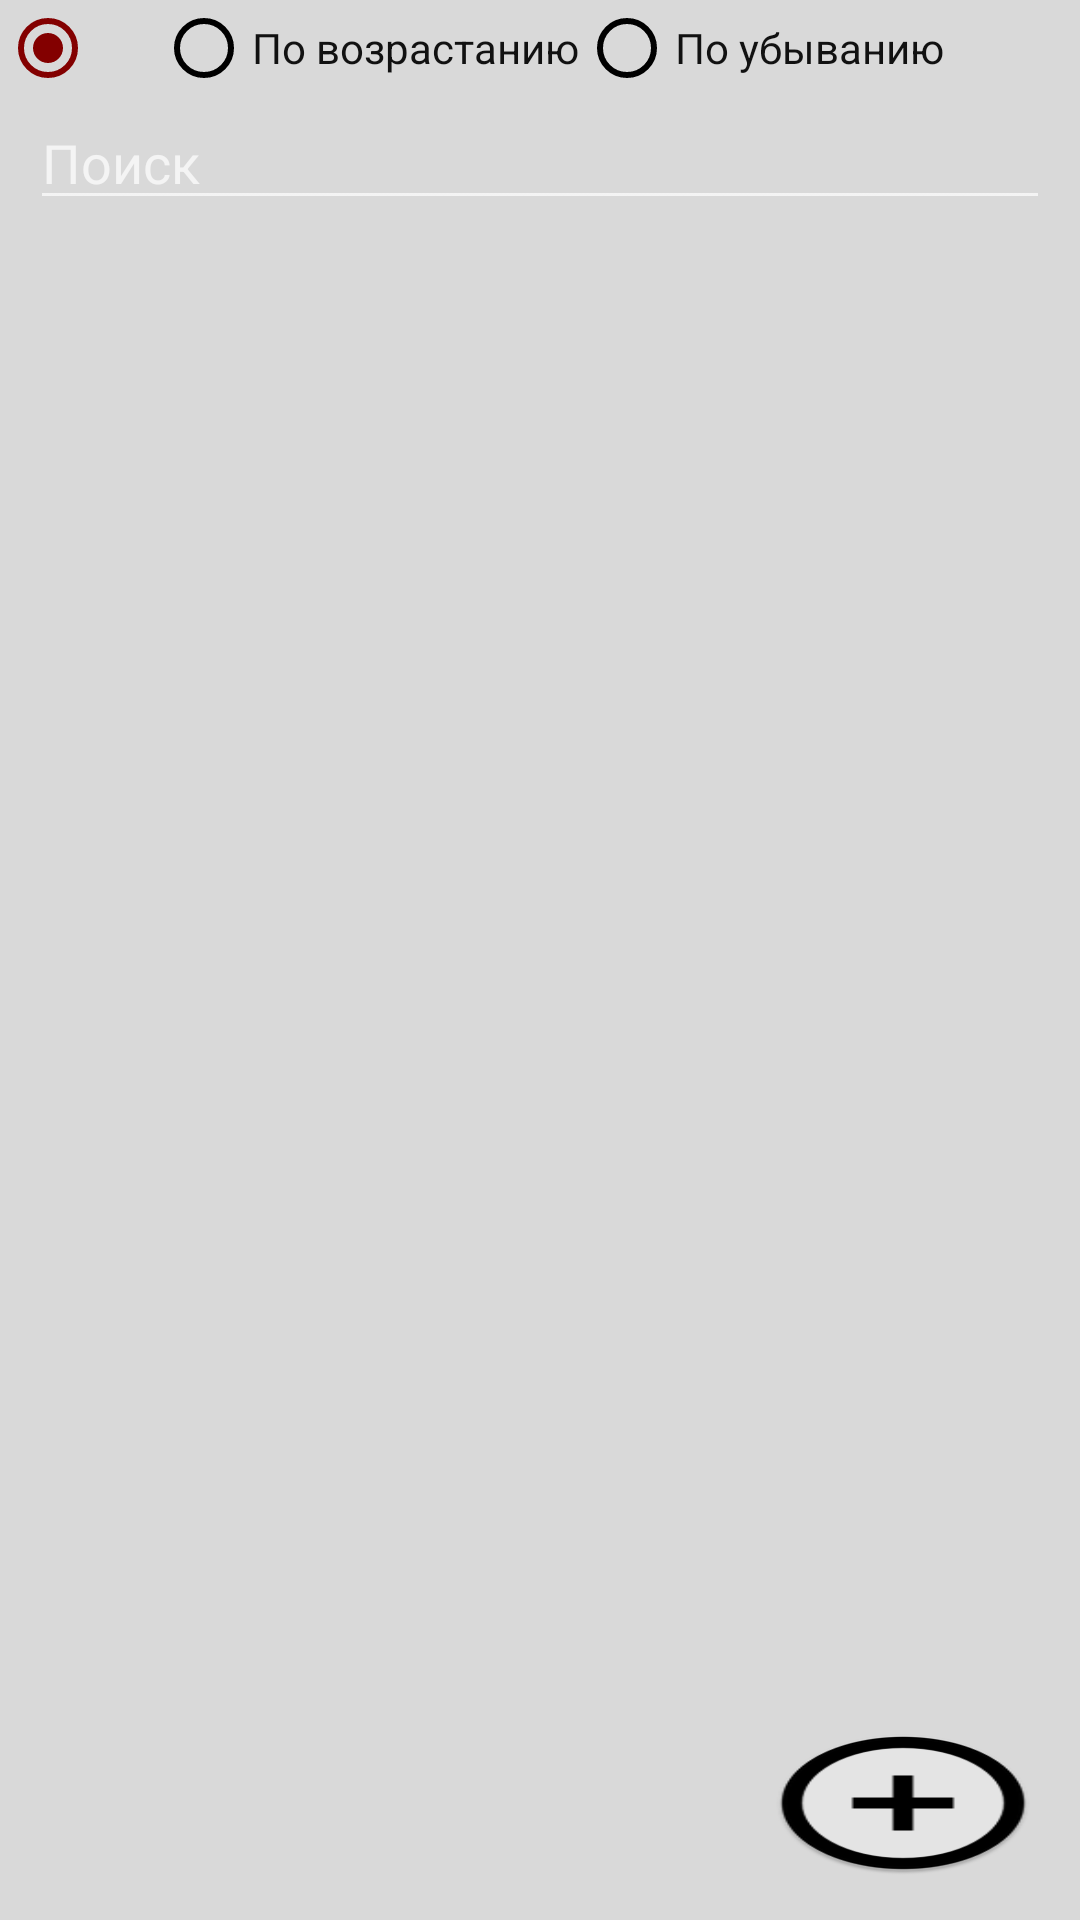

Screen size 1080px x 1920px. Icon name, then its box in pixels as bbox=(x1, y1, x2, y2):
add car: bbox=(779, 1736, 1027, 1874)
